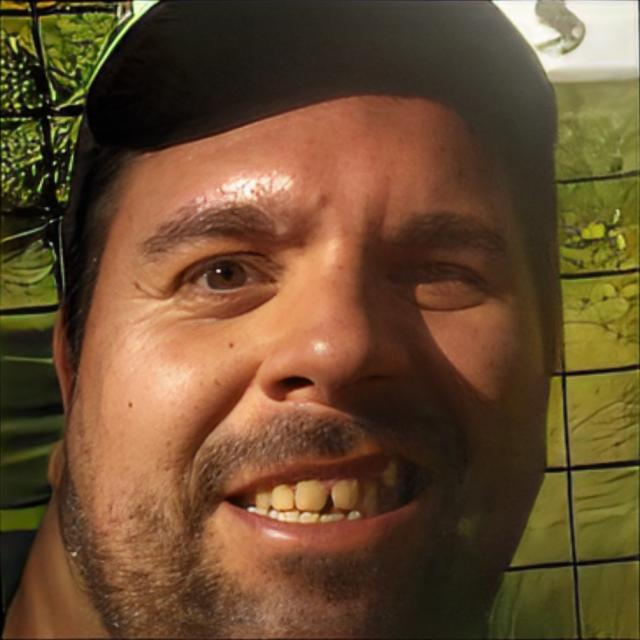happy: (87, 47, 550, 617)
